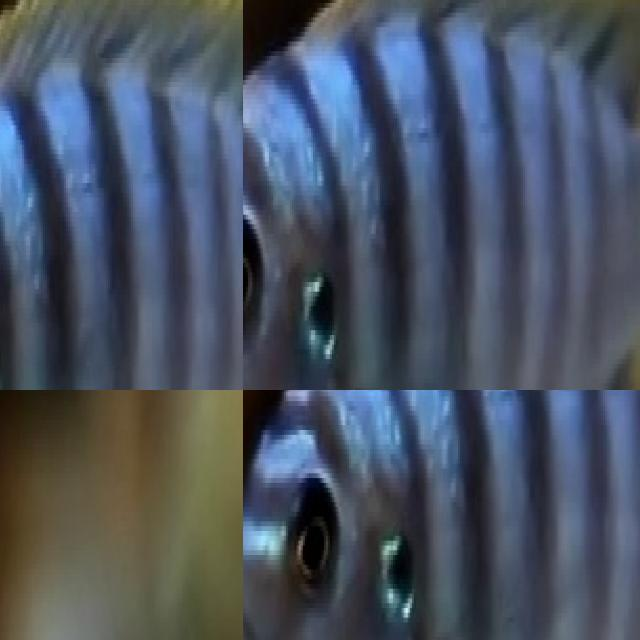fish: (243, 390, 640, 640), (0, 0, 243, 390)
